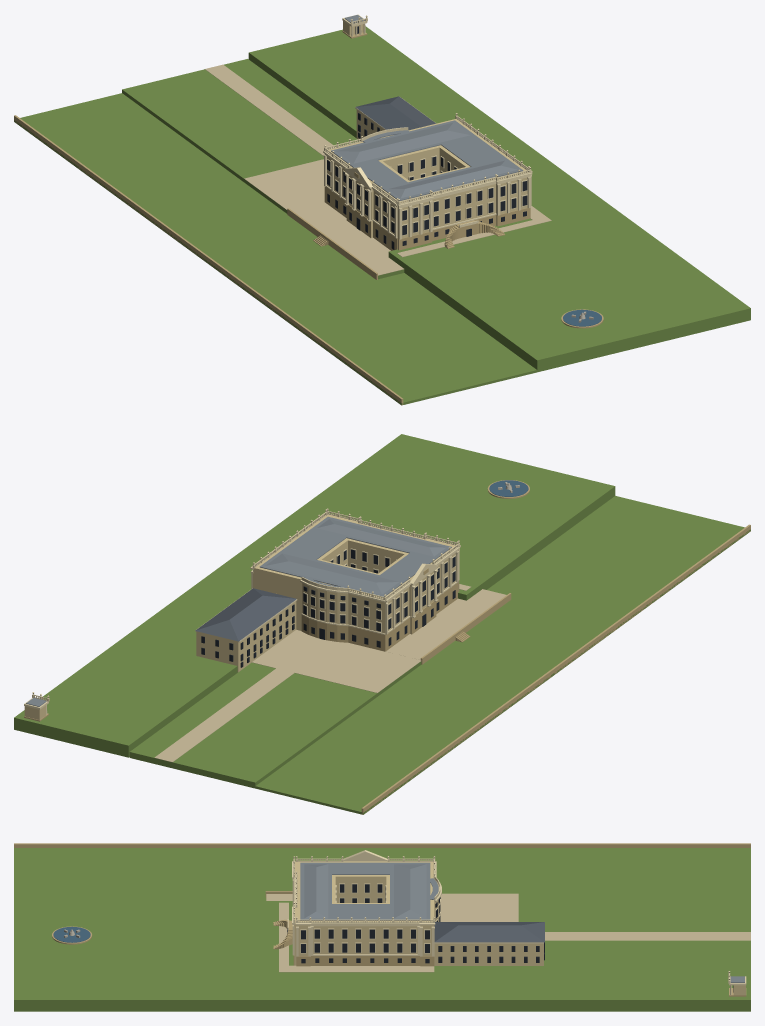
File: chatsworth-b65.glb
3 renders of one model, top to bottom at view 1: azimuth 30°, elevation 25°; view 2: azimuth 150°, elevation 25°; view 3: azimuth 270°, elevation 25°, orthographic. The views are drawn at different scales.
Size of the model in its own units: 15.2 by 2.82 by 29.2.
